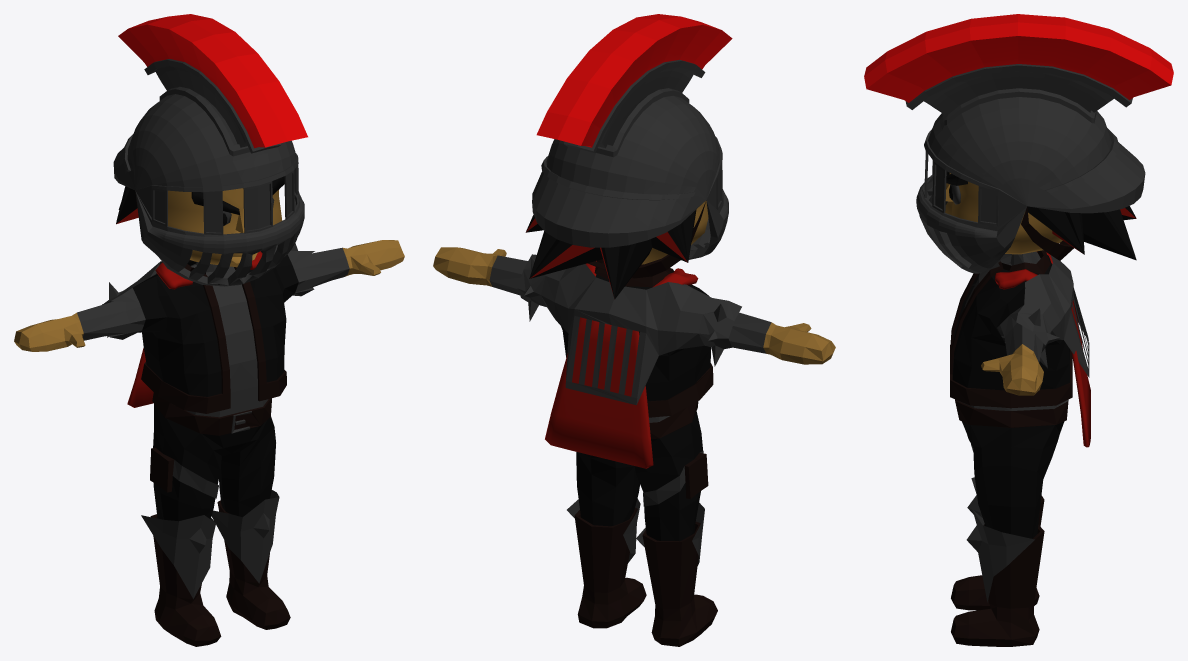
Rendered from warrior.FBX.
3 renders of one model, left to right at view 1: azimuth 30°, elevation 25°; view 2: azimuth 150°, elevation 25°; view 3: azimuth 270°, elevation 25°, orthographic. The views are drawn at different scales.
Visible parts, largest first — view 1: HEAD HELMEt, Character, JackHekmet, Boothelmet, Leg Strap, Cape; view 2: HEAD HELMEt, Character, JackHekmet, Cape, Leg Strap, Boothelmet; view 3: HEAD HELMEt, Character, JackHekmet, Boothelmet, Cape.
Boxes of the visible parts, left/top/right/bottom form: HEAD HELMEt: left=113, top=14, right=307, bottom=286; Character: left=14, top=186, right=404, bottom=646; JackHekmet: left=102, top=243, right=314, bottom=413; Boothelmet: left=141, top=490, right=279, bottom=598; Leg Strap: left=150, top=447, right=218, bottom=498; Cape: left=127, top=251, right=262, bottom=407; HEAD HELMEt: left=532, top=14, right=732, bottom=278; Character: left=433, top=201, right=835, bottom=646; JackHekmet: left=517, top=254, right=741, bottom=417; Cape: left=545, top=261, right=698, bottom=468; Leg Strap: left=643, top=451, right=708, bottom=506; Boothelmet: left=567, top=498, right=704, bottom=565; HEAD HELMEt: left=864, top=14, right=1173, bottom=273; Character: left=945, top=173, right=1136, bottom=646; JackHekmet: left=950, top=250, right=1089, bottom=408; Boothelmet: left=966, top=477, right=1034, bottom=602; Cape: left=995, top=251, right=1090, bottom=447.
Bounding box in the file's own units: 12.07 × 17.44 × 8.16.
